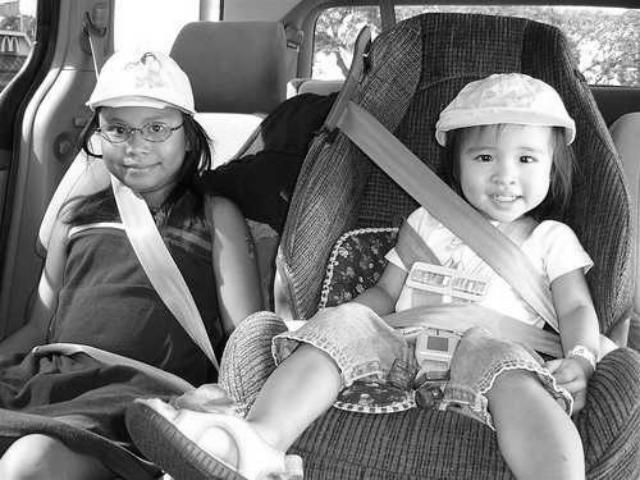SafeDriving: (512, 146, 542, 167), (469, 146, 500, 165), (105, 120, 132, 138), (144, 117, 168, 135)
Seatbelt: (328, 98, 626, 368), (86, 17, 222, 377)
